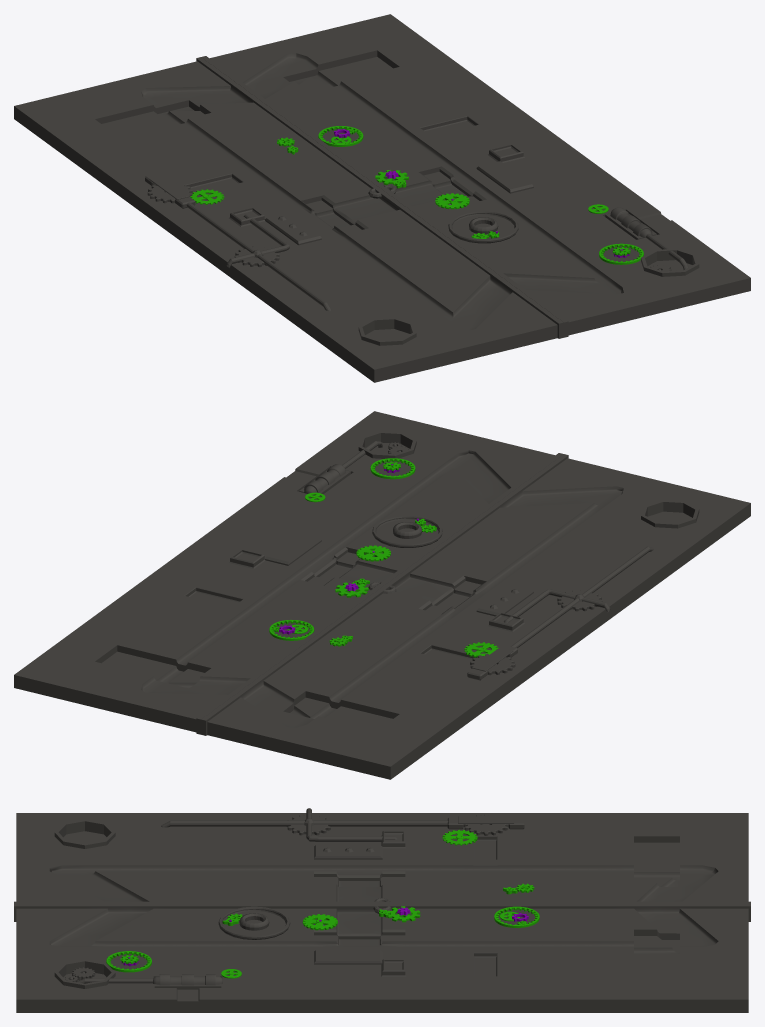
File: geo_door.fbx
3 views of the same model, one above another, from view 1: azimuth 30°, elevation 25°; view 2: azimuth 150°, elevation 25°; view 3: azimuth 270°, elevation 25° (orthographic).
Visible parts, largest first — view 1: right_door, left_door, pCylinder25; view 2: right_door, left_door, pCylinder25; view 3: left_door, right_door, pCylinder25, pCylinder22, pCylinder20, pGear11, pGear10, pCube847, pCylinder24, geo_gear_grandeInterieur, geo_gear_grosse1, geo_gear_grandeInterieur1 (+3 smaller).
Boxes of the visible parts, <box> form: right_door: <box>14,57,563,382</box>; left_door: <box>201,14,750,337</box>; pCylinder25: <box>448,210,518,243</box>; right_door: <box>201,454,750,779</box>; left_door: <box>14,411,563,734</box>; pCylinder25: <box>372,515,442,547</box>; left_door: <box>14,904,750,1012</box>; right_door: <box>14,813,750,903</box>; pCylinder25: <box>218,906,290,939</box>; pCylinder22: <box>161,820,304,827</box>; pCylinder20: <box>313,820,448,826</box>; pGear11: <box>287,814,331,835</box>; pGear10: <box>463,814,508,835</box>; pCube847: <box>458,816,514,823</box>; pCylinder24: <box>318,836,397,841</box>; geo_gear_grandeInterieur: <box>106,951,151,972</box>; geo_gear_grosse1: <box>442,829,477,845</box>; geo_gear_grandeInterieur1: <box>494,906,539,927</box>.
Size of the model in its own units: 72.96 by 3.76 by 121.
